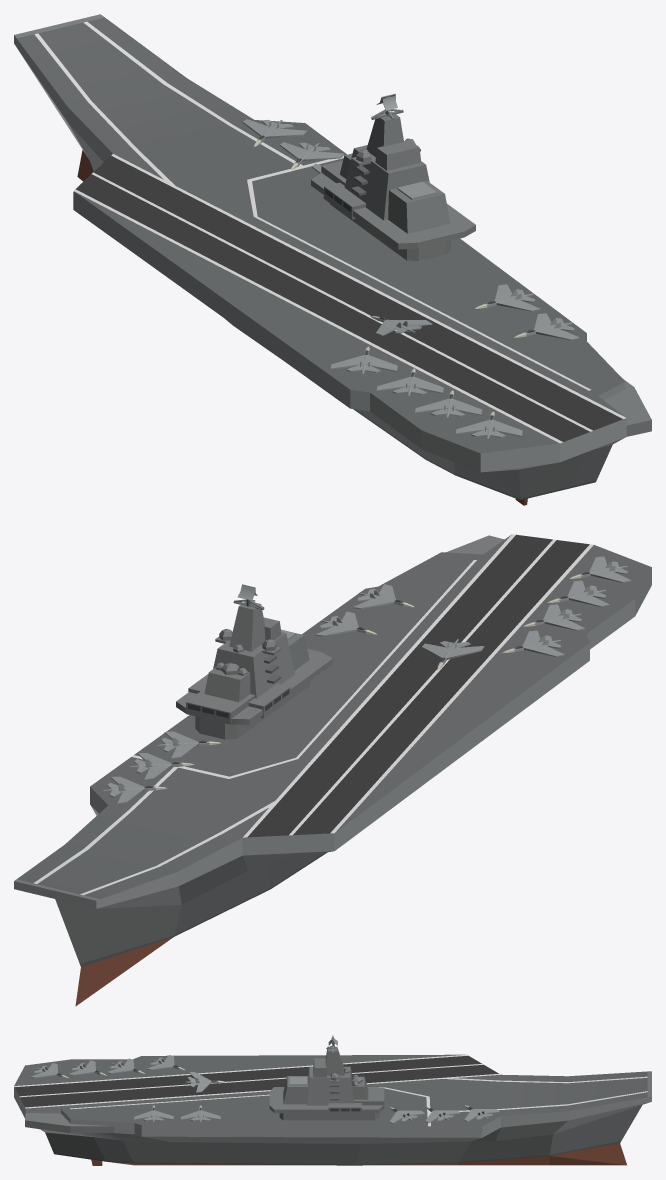
The model's file is Авианосец (4 юнита).fbx.
3 views of the same model, one above another, from view 1: azimuth 30°, elevation 25°; view 2: azimuth 150°, elevation 25°; view 3: azimuth 270°, elevation 25° (orthographic). The views are drawn at different scales.
Parts seen in each view (by area): view 1: Авианосец; view 2: Авианосец; view 3: Авианосец.
Part boxes in pixels (box(x1,y1,x2,y2)): Авианосец: box(14, 14, 651, 505); Авианосец: box(14, 534, 651, 1006); Авианосец: box(14, 1035, 651, 1165).
Size of the model in its own units: 1.88 by 1.81 by 7.11.
